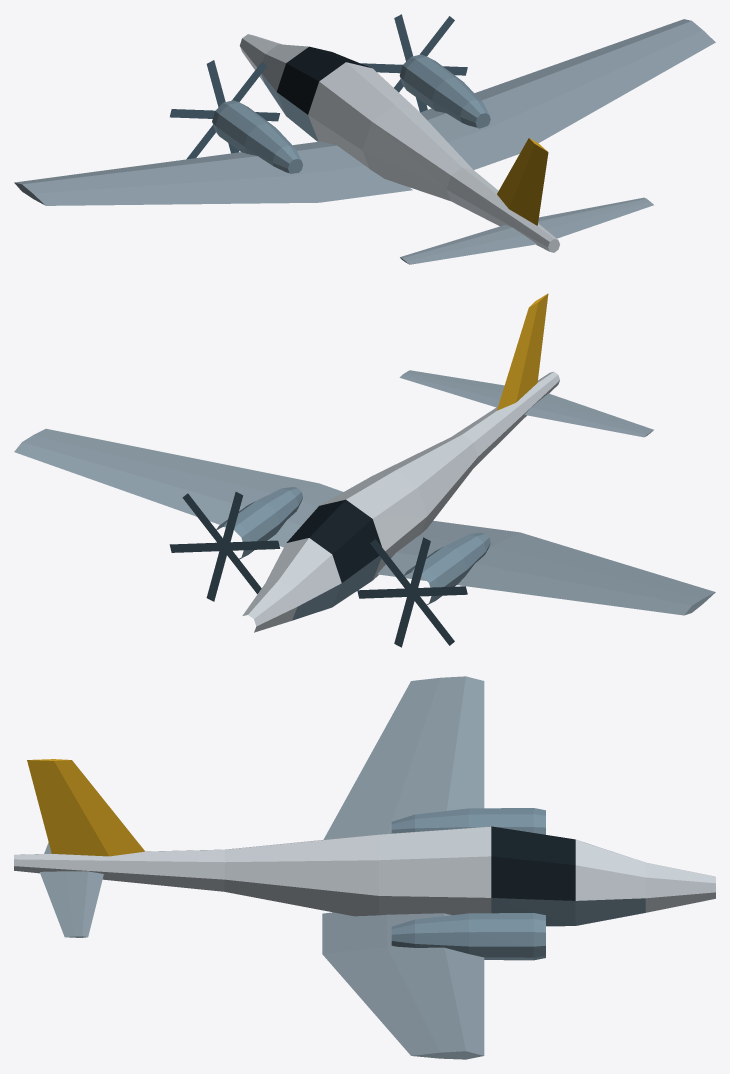
3 renders of one model, top to bottom at view 1: azimuth 30°, elevation 25°; view 2: azimuth 150°, elevation 25°; view 3: azimuth 270°, elevation 25°, orthographic. The views are drawn at different scales.
Parts seen in each view (by area): view 1: lod0; view 2: lod0; view 3: lod0.
Boxes of the visible parts, bbox=[...] form: lod0: bbox=[14, 14, 715, 264]; lod0: bbox=[14, 293, 715, 647]; lod0: bbox=[14, 676, 715, 1059].
Size of what is drawn, in the model's own units: 1.26 by 0.2994 by 1.
